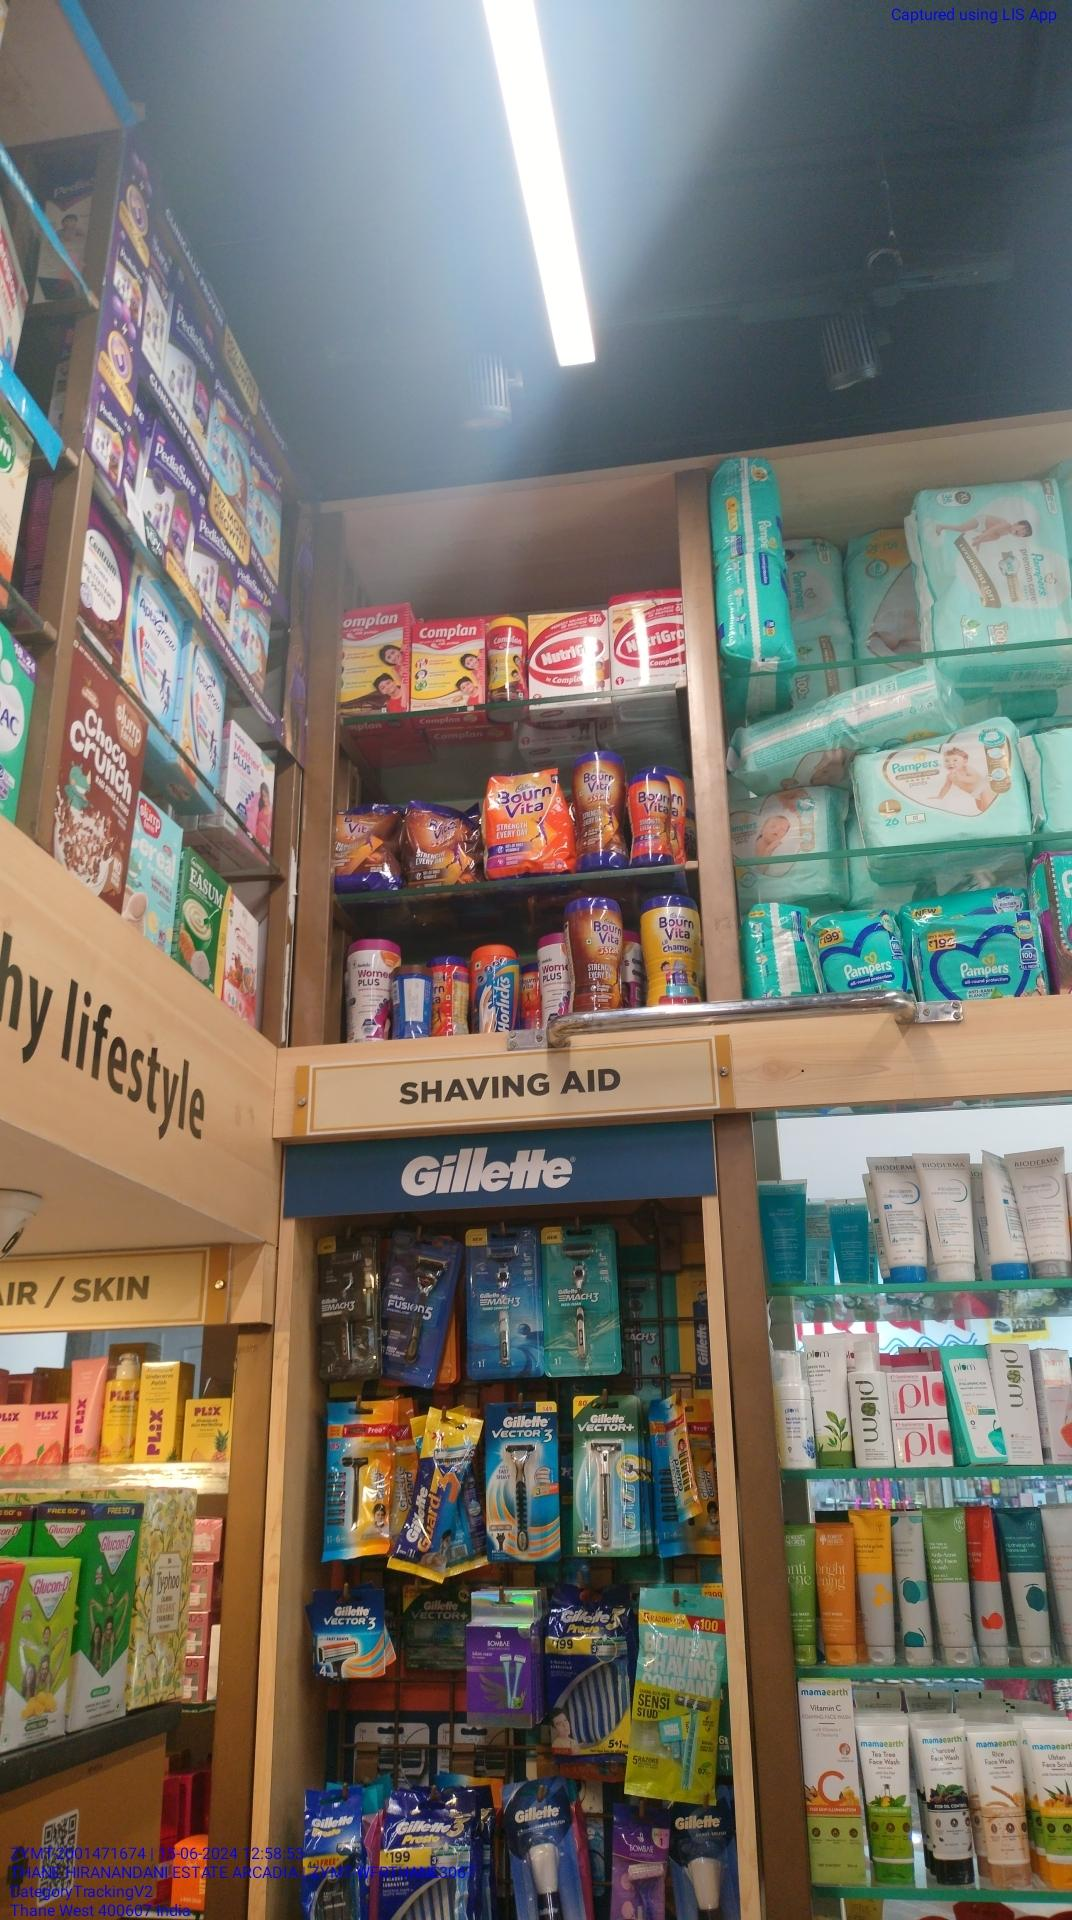BOURN_VITA_200_G_JAR: (629, 774, 670, 868)
BOURN_VITA_750_G_POUCH: (484, 773, 566, 873)
BOURN_VITA_CHAMPS_500_G_JAR: (642, 895, 701, 1005)
BOURN_VITA_FIVE_STAR_MAGIC_500_G_JAR: (566, 897, 621, 1009), (574, 752, 625, 864)
BOURN_VITA_FIVE_STAR_MAGIC_500_G_POUCH: (407, 798, 475, 887)
COMPLAN_CHOCOLATE_200_GMS_JAR: (487, 621, 526, 700)
COMPLAN_CHOCOLATE_500_GMS_PACK: (340, 608, 407, 712)
COMPLAN_KESAR_BADAM_200_GMS_PACK: (411, 625, 484, 704)
HORLICK_CLASSIC_MALT_500_G_JAR: (469, 942, 518, 1031)
